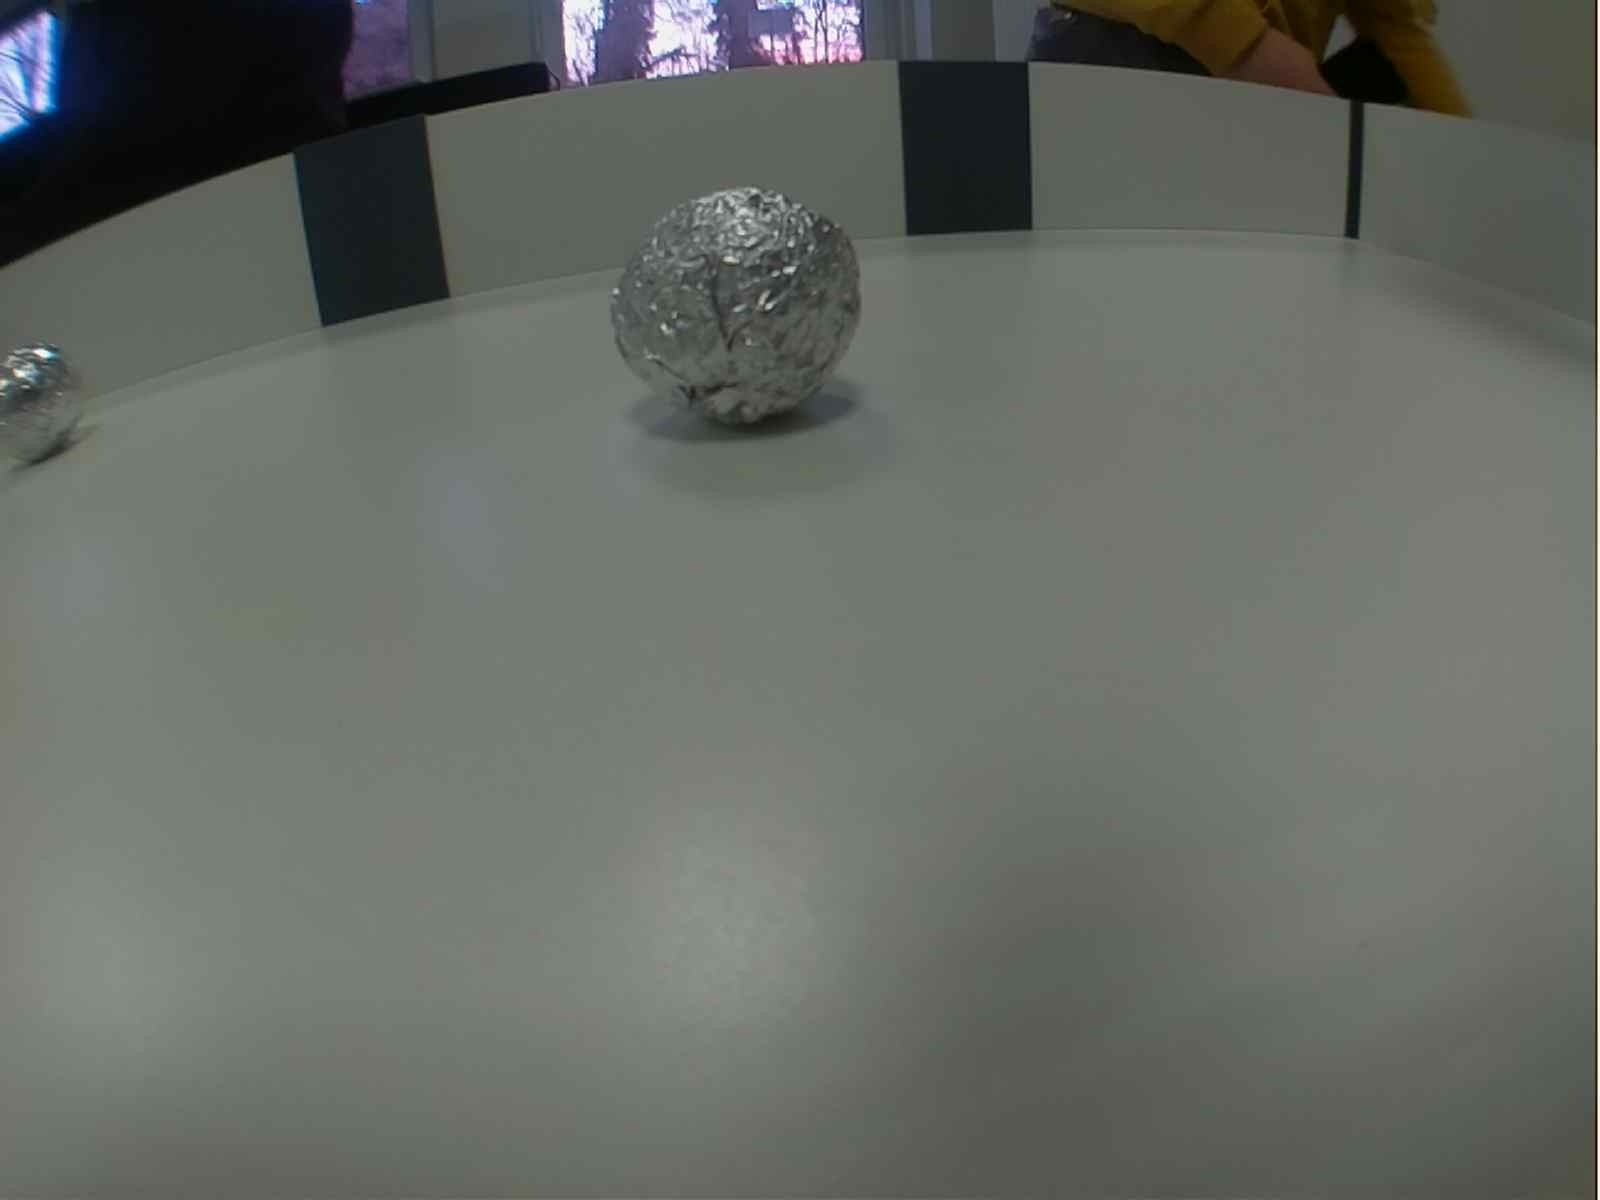bianca: (606, 183, 867, 436), (1, 337, 86, 468)
